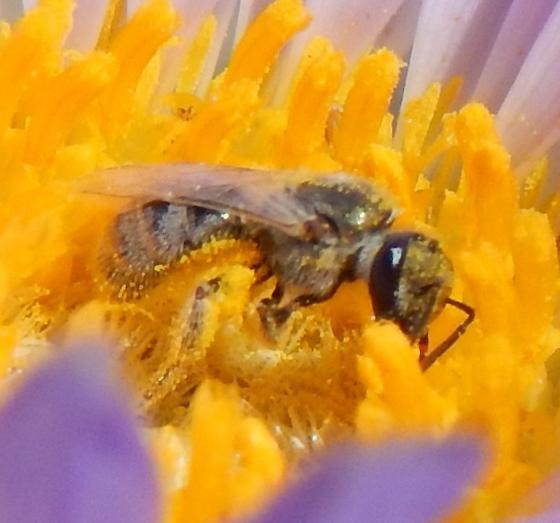Allodapula: (88, 140, 486, 402)
